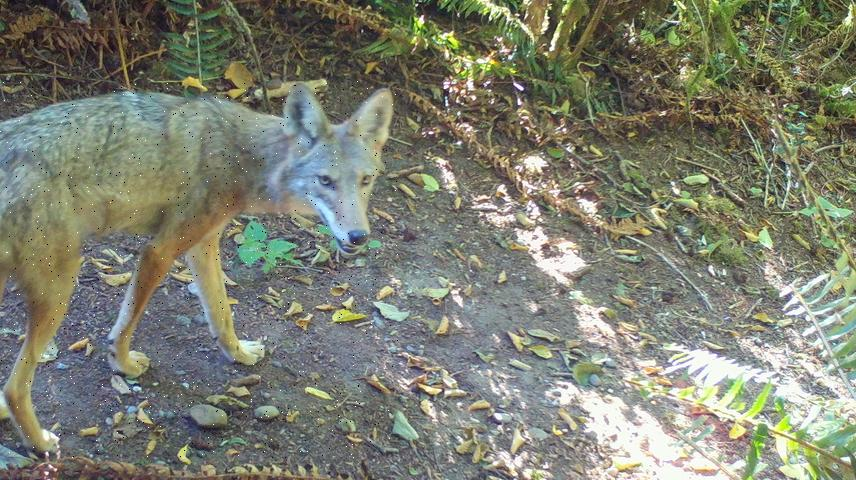Coyote: (0, 80, 398, 458)
